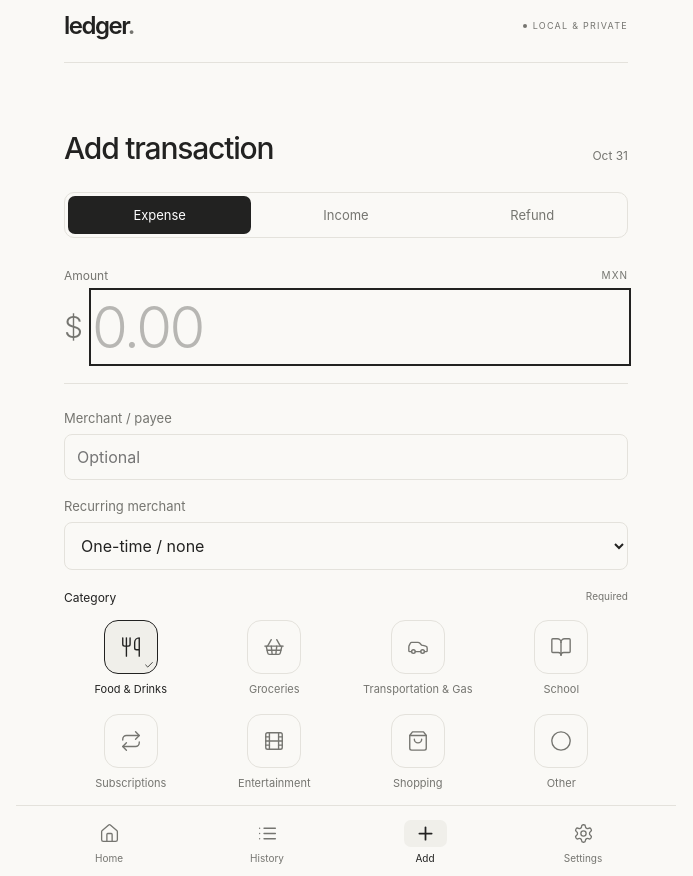
Checkpoint 2 integration › reconciles a newly due occurrence on resume/focus
expect the heading "Add transaction" is shown: met, box [64,131,273,166]
In the field labelled "Amount": {"x": 360, "y": 326} [92,290,628,362], type "42"
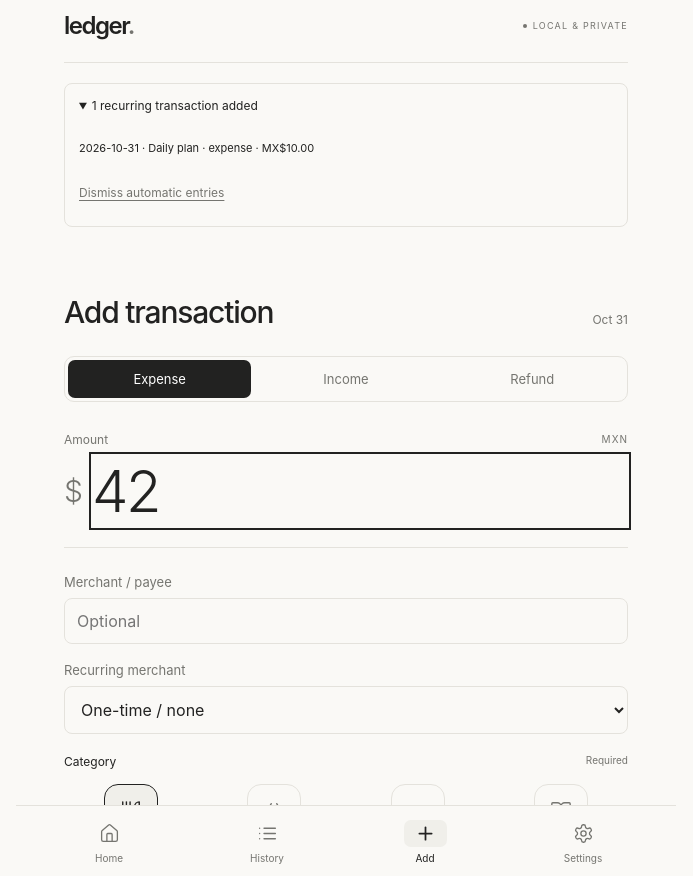
expect the heading "1 recurring transaction added" is shown: met, box [92,98,258,113]
